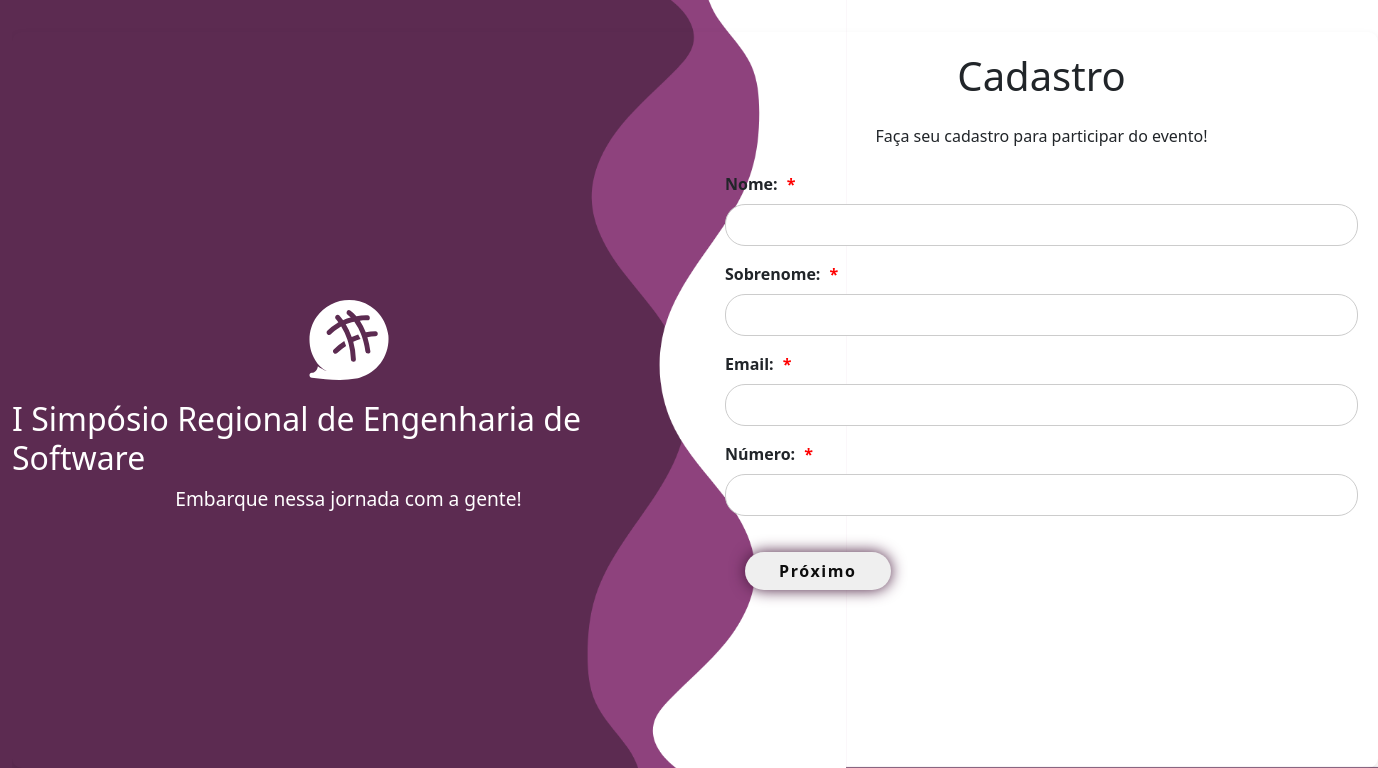
Test: Register Component › deve navegar de volta para o primeiro passo ao clicar em "Voltar"
Type "John" into the field with test id "nome-input".
click(1042, 225); type("John")  # box [725, 204, 1358, 246]
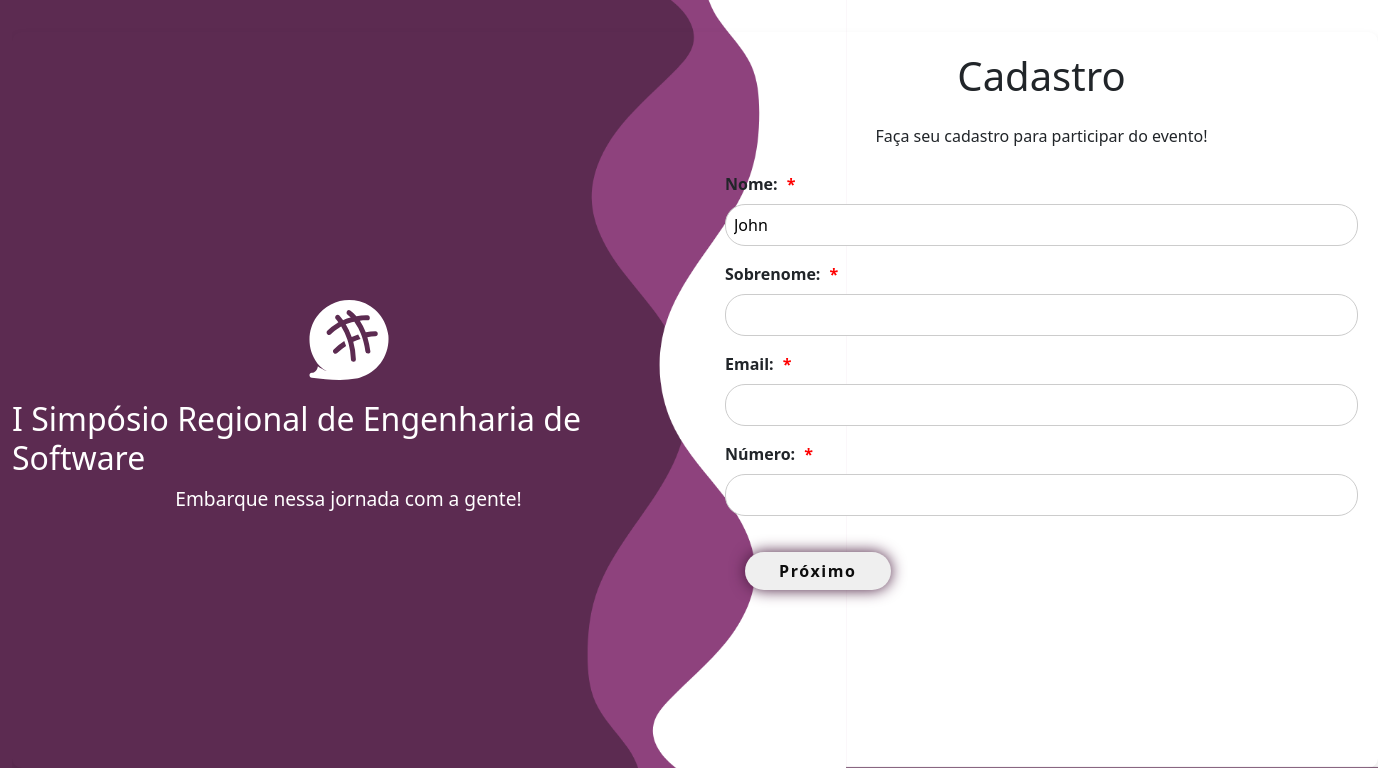
Type "Doe" into the field with test id "sobrenome-input".
click(1042, 315); type("Doe")  # box [725, 294, 1358, 336]
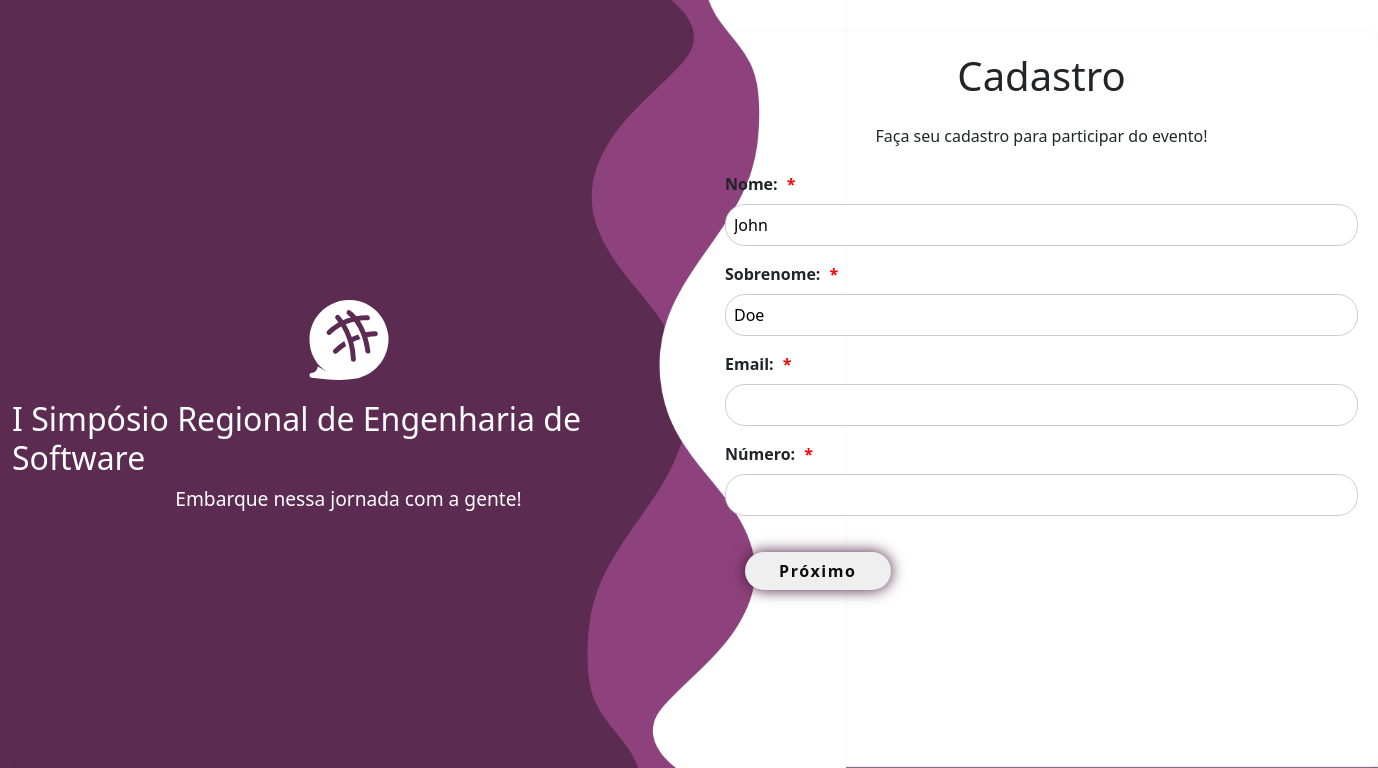
Type "john@example.com" into the field with test id "email-input".
click(1042, 405); type("john@example.com")  # box [725, 384, 1358, 426]
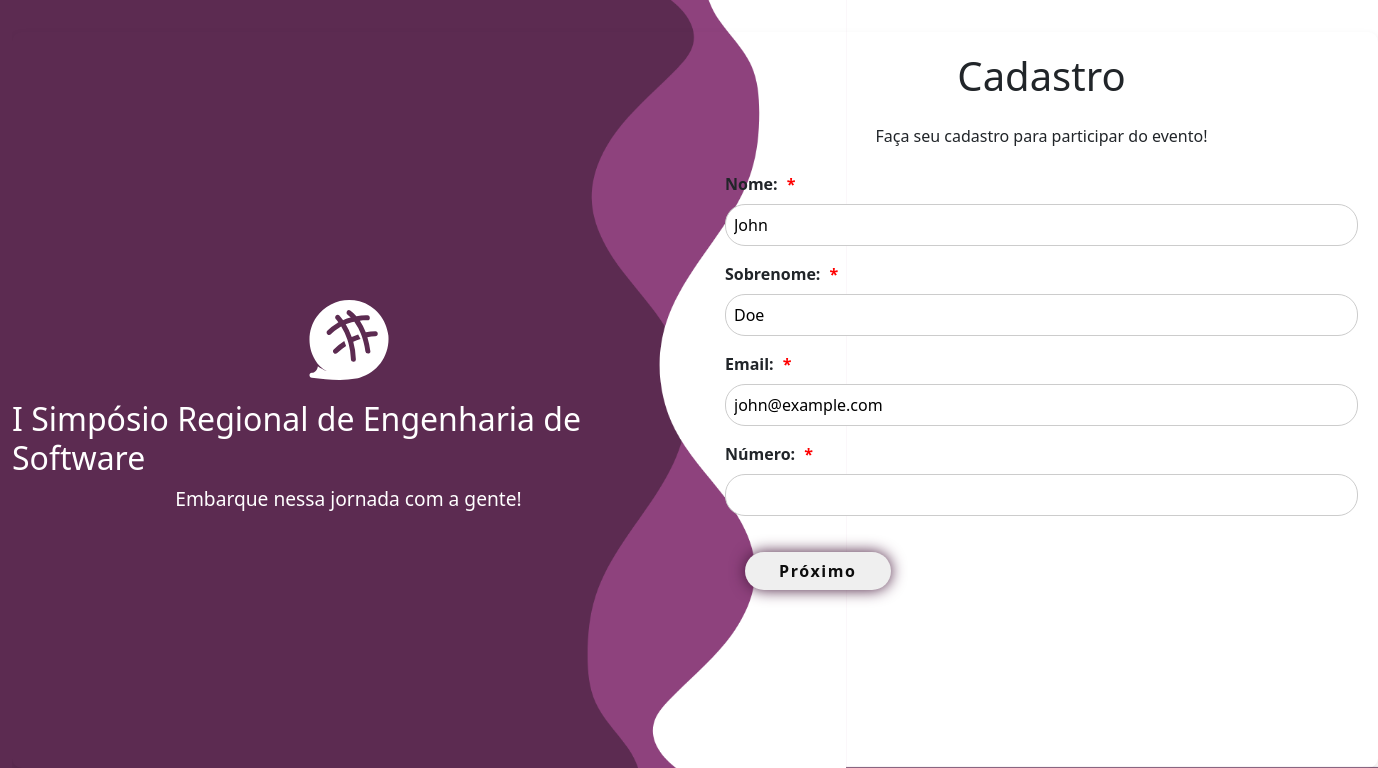
Type "123456789" into the field with test id "numero-input".
click(1042, 495); type("123456789")  # box [725, 474, 1358, 516]
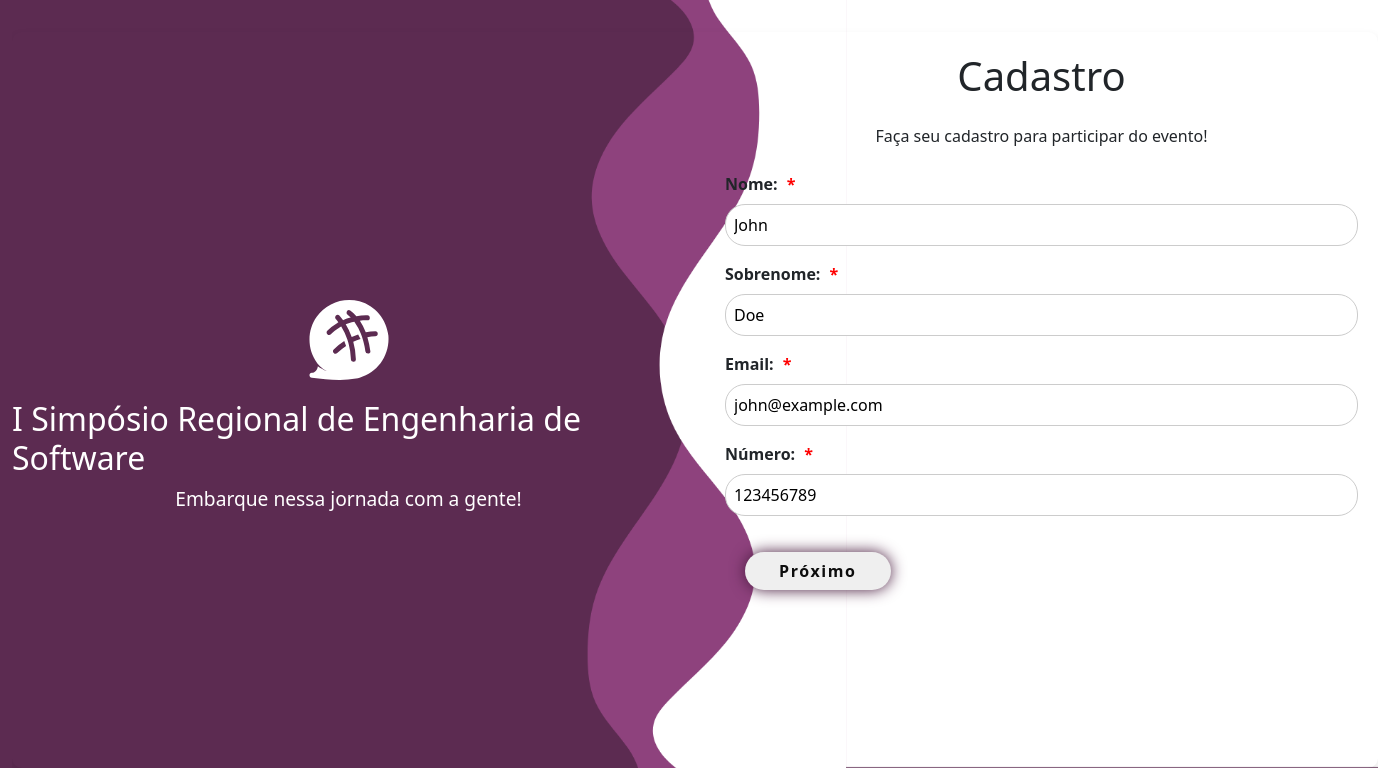
Click the button "Próximo".
click(818, 571)  # box [745, 552, 890, 590]
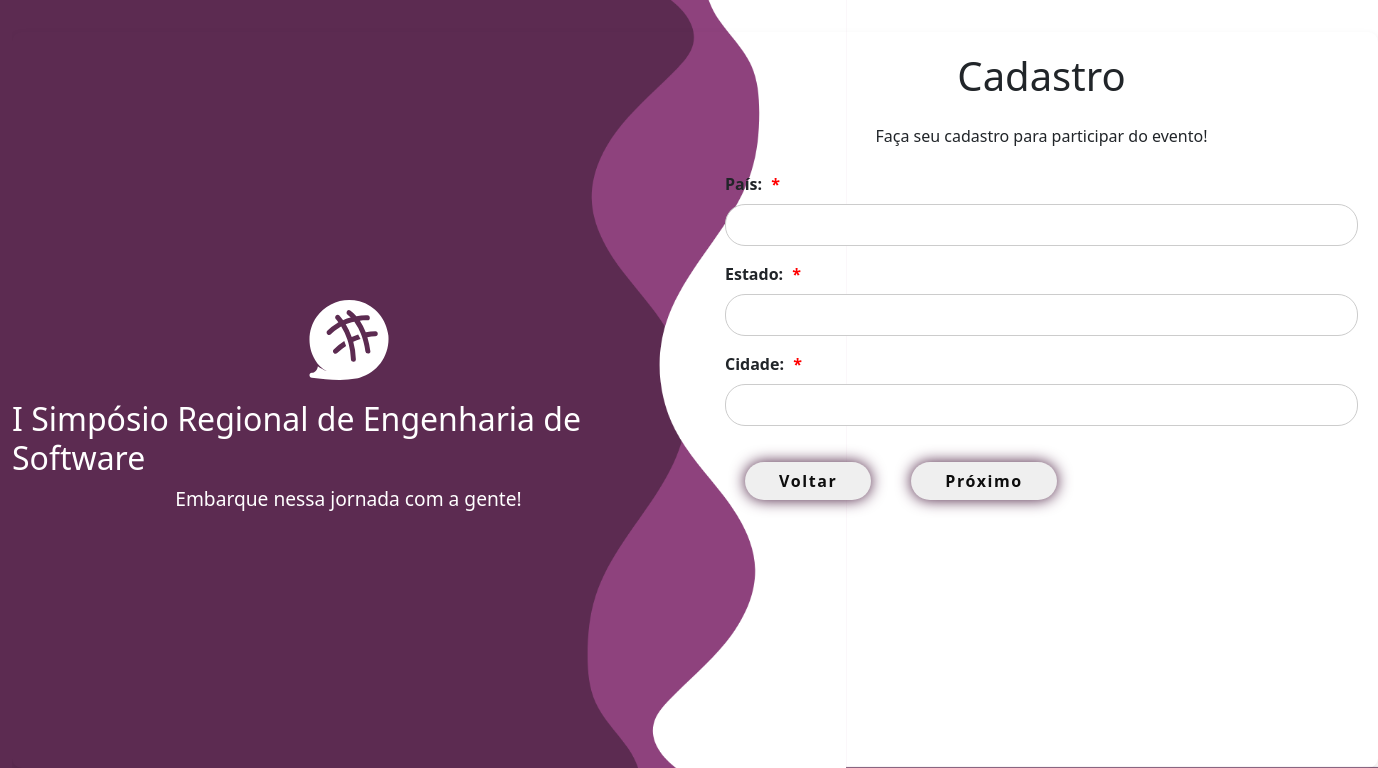
Click the button "Voltar".
click(808, 481)  # box [745, 462, 871, 500]
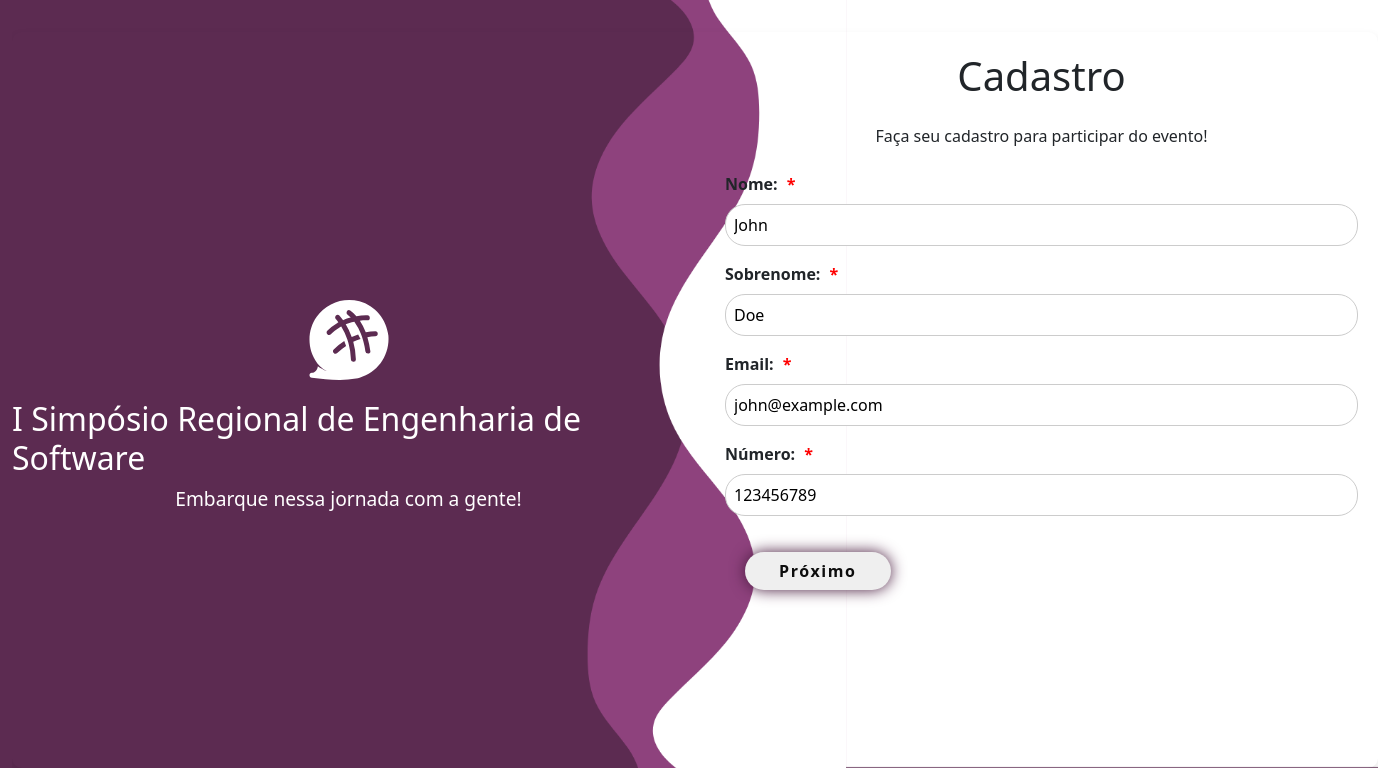
Expected: the field with test id "nome-input" is shown, [725, 204, 1358, 246]
